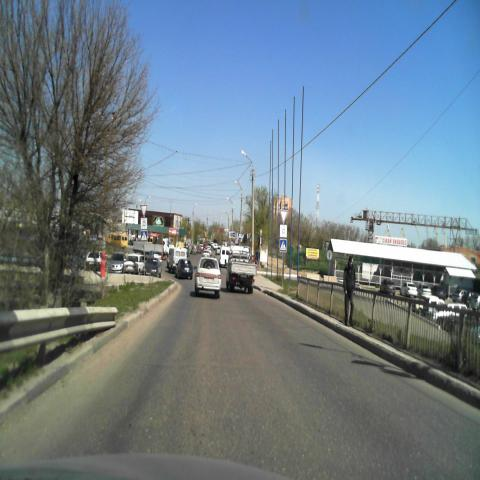8_13_1: (280, 224, 287, 237)
